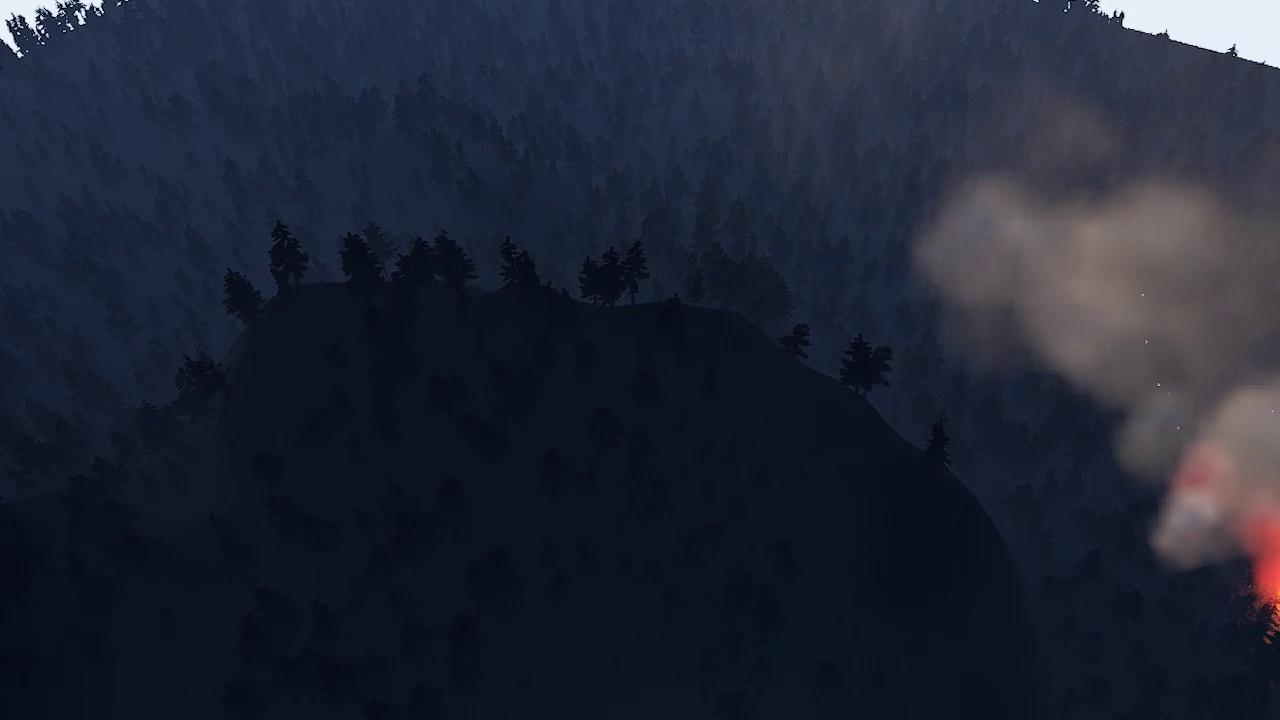fire: (1264, 587, 1280, 651)
smoke: (910, 19, 1280, 627)
